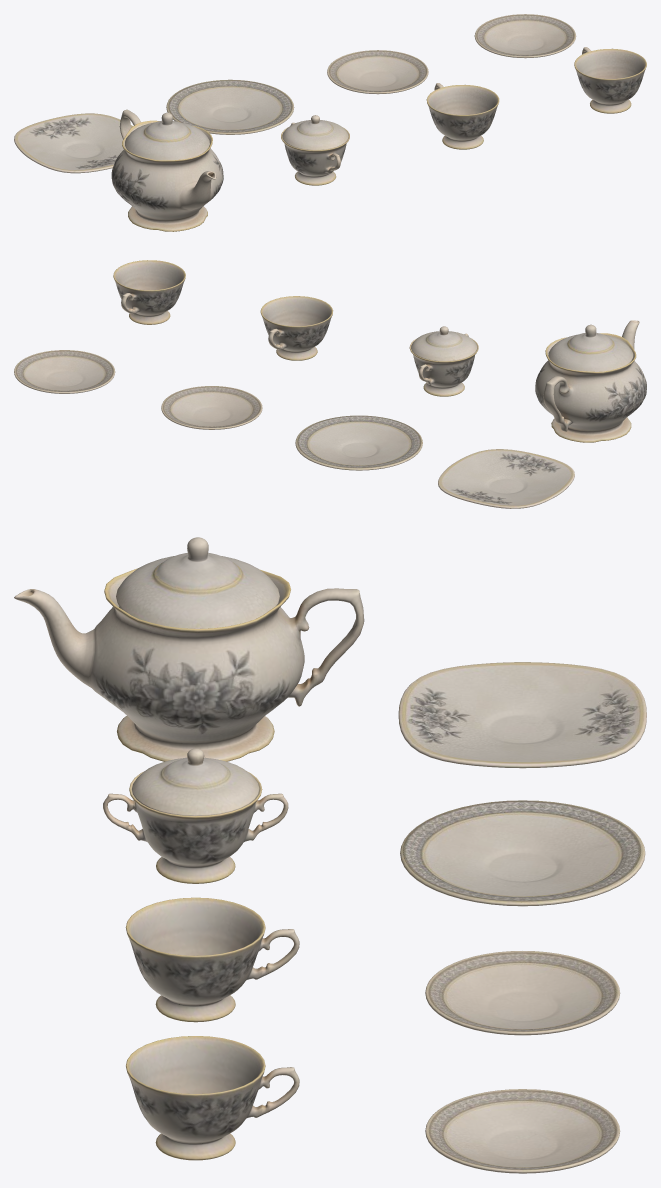
File: tea_set_01.glb
3 renders of one model, top to bottom at view 1: azimuth 30°, elevation 25°; view 2: azimuth 150°, elevation 25°; view 3: azimuth 270°, elevation 25°, orthographic. The views are drawn at different scales.
Parts seen in each view (by area): view 1: tea_set_01_teapot_01, tea_set_01_plate_large_circular_03, tea_set_01_plate_large_square_01, tea_set_01_cup_small_01, tea_set_01_cup_small_02, tea_set_01_saucer_circular_03, tea_set_01_saucer_circular_04, tea_set_01_teapot_01_lid, tea_set_01_sugar_cup_01, tea_set_01_sugar_cup_01_lid; view 2: tea_set_01_teapot_01, tea_set_01_plate_large_square_01, tea_set_01_plate_large_circular_03, tea_set_01_cup_small_01, tea_set_01_cup_small_02, tea_set_01_saucer_circular_04, tea_set_01_saucer_circular_03, tea_set_01_teapot_01_lid, tea_set_01_sugar_cup_01, tea_set_01_sugar_cup_01_lid; view 3: tea_set_01_teapot_01, tea_set_01_plate_large_square_01, tea_set_01_plate_large_circular_03, tea_set_01_cup_small_01, tea_set_01_cup_small_02, tea_set_01_saucer_circular_03, tea_set_01_saucer_circular_04, tea_set_01_teapot_01_lid, tea_set_01_sugar_cup_01, tea_set_01_sugar_cup_01_lid.
Part boxes in pixels (x1,y1,x2,y2): tea_set_01_teapot_01: [111, 109, 223, 231]; tea_set_01_plate_large_circular_03: [166, 79, 294, 134]; tea_set_01_plate_large_square_01: [14, 113, 133, 173]; tea_set_01_cup_small_01: [426, 83, 499, 149]; tea_set_01_cup_small_02: [574, 47, 646, 113]; tea_set_01_saucer_circular_03: [474, 14, 576, 58]; tea_set_01_saucer_circular_04: [327, 50, 428, 94]; tea_set_01_teapot_01_lid: [125, 112, 209, 160]; tea_set_01_sugar_cup_01: [281, 122, 349, 185]; tea_set_01_sugar_cup_01_lid: [282, 115, 348, 150]; tea_set_01_teapot_01: [535, 320, 646, 442]; tea_set_01_plate_large_square_01: [438, 449, 574, 508]; tea_set_01_plate_large_circular_03: [295, 415, 422, 470]; tea_set_01_cup_small_01: [260, 296, 333, 360]; tea_set_01_cup_small_02: [113, 260, 185, 324]; tea_set_01_saucer_circular_04: [161, 386, 262, 429]; tea_set_01_saucer_circular_03: [14, 350, 115, 393]; tea_set_01_teapot_01_lid: [548, 324, 633, 371]; tea_set_01_sugar_cup_01: [409, 333, 478, 396]; tea_set_01_sugar_cup_01_lid: [411, 326, 477, 361]; tea_set_01_teapot_01: [14, 568, 364, 761]; tea_set_01_plate_large_square_01: [398, 662, 646, 768]; tea_set_01_plate_large_circular_03: [400, 800, 645, 906]; tea_set_01_cup_small_01: [125, 897, 299, 1022]; tea_set_01_cup_small_02: [126, 1036, 299, 1160]; tea_set_01_saucer_circular_03: [425, 1089, 620, 1173]; tea_set_01_saucer_circular_04: [425, 951, 620, 1035]; tea_set_01_teapot_01_lid: [116, 537, 279, 628]; tea_set_01_sugar_cup_01: [103, 771, 288, 883]; tea_set_01_sugar_cup_01_lid: [131, 748, 259, 815].
Size of the model in its own units: 0.9185 by 0.165 by 0.4839.
1 material, 1 textured.
